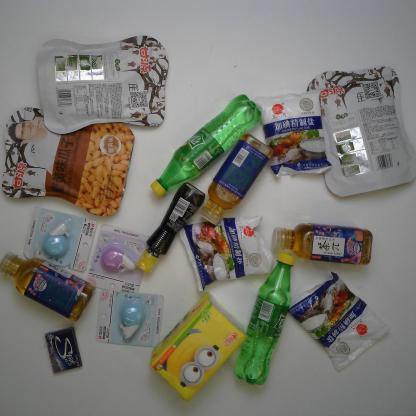Dried Fruit: (1, 107, 135, 217), (306, 65, 416, 197), (37, 34, 169, 134)
Drink: (150, 94, 262, 197), (234, 251, 296, 386), (198, 132, 274, 226), (0, 251, 96, 322), (271, 223, 373, 265)
Gum: (44, 326, 82, 374)
Seasoner: (287, 270, 390, 372), (178, 215, 275, 292), (253, 88, 333, 178), (136, 182, 206, 274)
Stationery: (23, 206, 97, 272), (86, 223, 150, 293), (95, 290, 164, 348)
Tissue: (148, 292, 248, 402)
